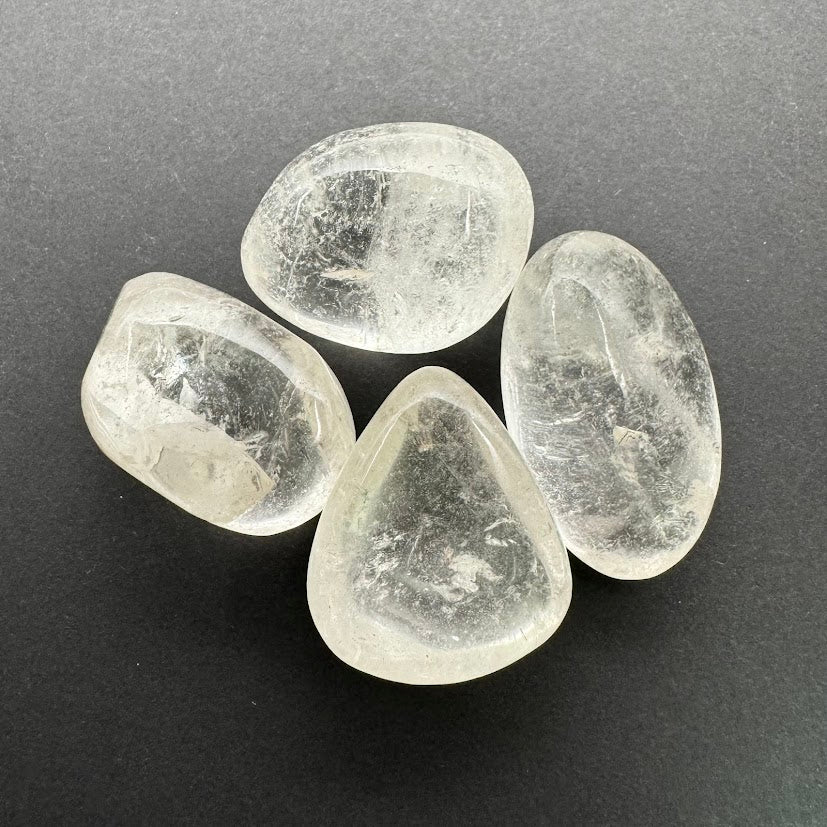Clear_Quartz: (304, 364, 576, 690), (500, 228, 727, 588), (77, 271, 359, 538), (241, 116, 536, 352)
